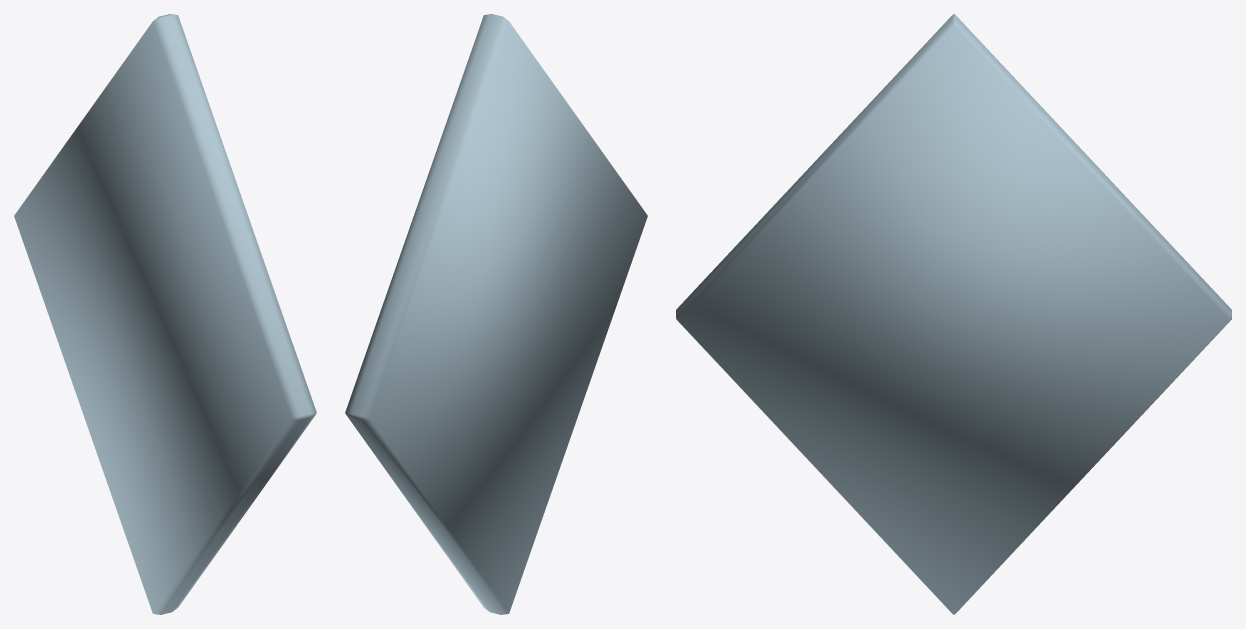
Rendered from diamond.glb.
The picture shows the model from 3 angles, left to right: view 1: azimuth 30°, elevation 25°; view 2: azimuth 150°, elevation 25°; view 3: azimuth 270°, elevation 25°; orthographic projection.
Parts seen in each view (by area): view 1: Plane; view 2: Plane; view 3: Plane.
Part boxes in pixels (x1,y1,x2,y2): Plane: [14, 14, 316, 614]; Plane: [345, 14, 647, 614]; Plane: [676, 14, 1231, 614].
Size of the model in its own units: 0.2996 by 6.77 by 5.75.
